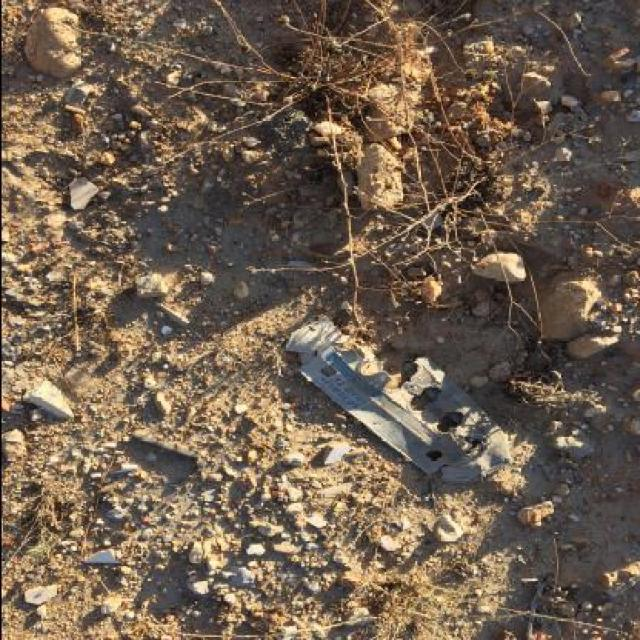cardboard: (284, 315, 511, 482)
